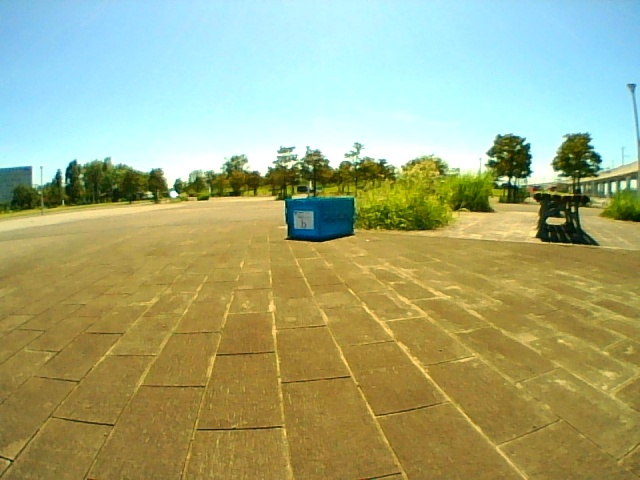blue_box: (286, 199, 353, 236)
tag_b: (295, 211, 314, 230)
